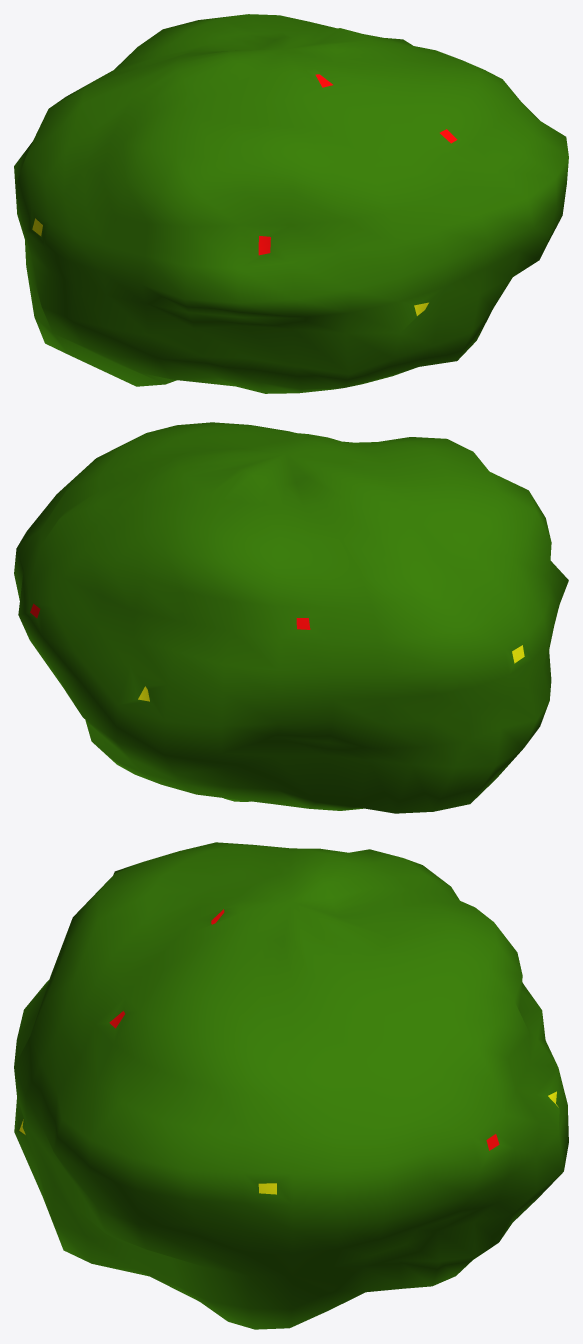
The model's file is shrub.glb.
3 views of the same model, one above another, from view 1: azimuth 30°, elevation 25°; view 2: azimuth 150°, elevation 25°; view 3: azimuth 270°, elevation 25° (orthographic). The views are drawn at different scales.
Visible parts, largest first — view 1: Shrub; view 2: Shrub; view 3: Shrub.
Boxes of the visible parts, box(x1,y1,x2,y2) form: Shrub: box(14, 14, 568, 393); Shrub: box(14, 422, 568, 813); Shrub: box(14, 842, 568, 1329).
Size of the model in its own units: 4.03 by 2.52 by 3.42.
Materials: 1 (1 with a texture image).
